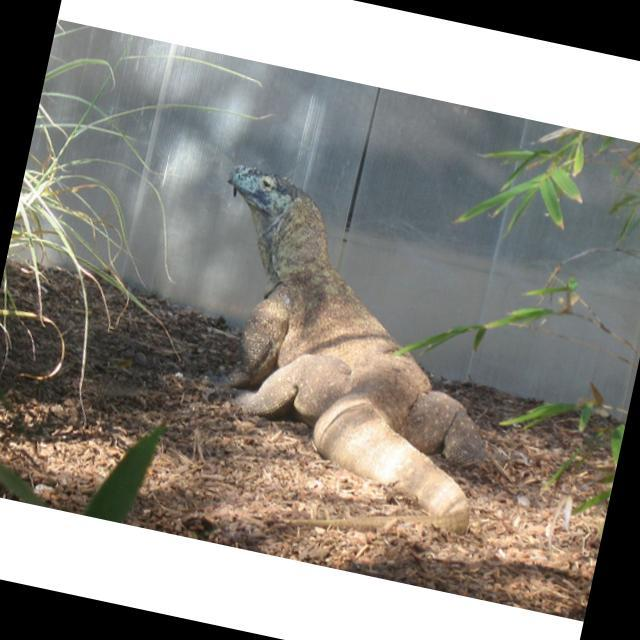KomodoDragon: (155, 159, 557, 573)
